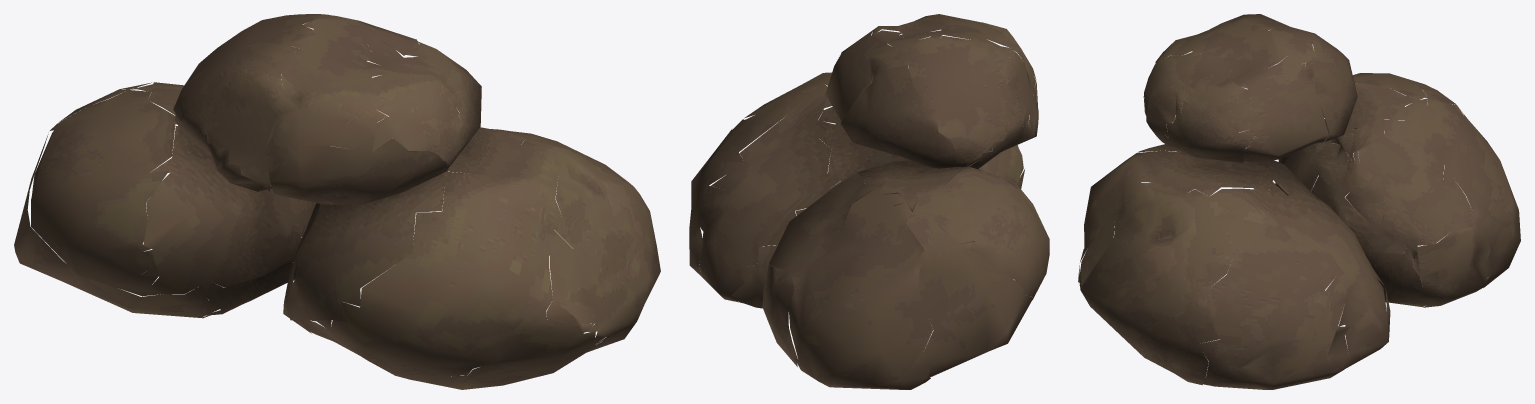
The model's file is rocks.glb.
3 views of the same model, side by side, from view 1: azimuth 30°, elevation 25°; view 2: azimuth 150°, elevation 25°; view 3: azimuth 270°, elevation 25° (orthographic). The views are drawn at different scales.
Parts seen in each view (by area): view 1: tripo_node_0eadc7ef-af5d-4edd-a6f6-92a88ee723f2; view 2: tripo_node_0eadc7ef-af5d-4edd-a6f6-92a88ee723f2; view 3: tripo_node_0eadc7ef-af5d-4edd-a6f6-92a88ee723f2.
Boxes of the visible parts, left/top/right/bottom form: tripo_node_0eadc7ef-af5d-4edd-a6f6-92a88ee723f2: left=14, top=14, right=660, bottom=389; tripo_node_0eadc7ef-af5d-4edd-a6f6-92a88ee723f2: left=689, top=14, right=1049, bottom=389; tripo_node_0eadc7ef-af5d-4edd-a6f6-92a88ee723f2: left=1078, top=14, right=1520, bottom=389.
Size of the model in its own units: 0.768 by 0.5035 by 0.7554.
1 material, 1 textured.
